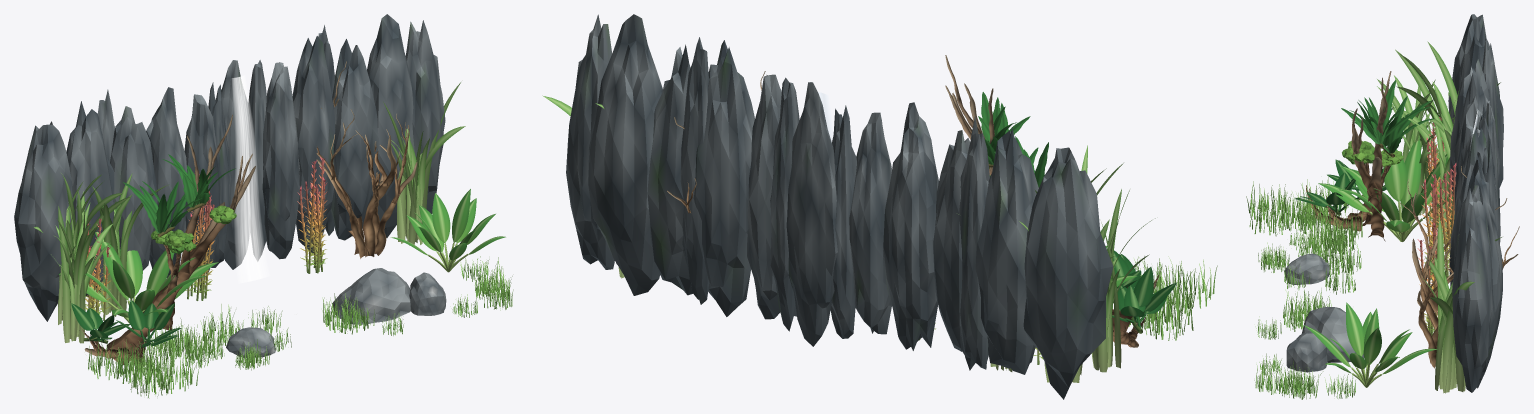
Rendered from aquascape-layout.glb.
3 views of the same model, side by side, from view 1: azimuth 30°, elevation 25°; view 2: azimuth 150°, elevation 25°; view 3: azimuth 270°, elevation 25° (orthographic). The views are drawn at different scales.
Parts seen in each view (by area): view 1: rock_cliff, plant_vallisneria, plant_hairgrass, plant_amazon_sword, waterfall, driftwood_large, rock_seiryu_a, driftwood_spider, plant_rotala, plant_java_fern, plant_anubias, rock_seiryu_b (+1 smaller); view 2: rock_cliff, plant_vallisneria, plant_hairgrass, plant_anubias, plant_java_fern, driftwood_large; view 3: rock_cliff, plant_hairgrass, plant_amazon_sword, plant_vallisneria, driftwood_large, rock_seiryu_a, plant_rotala, driftwood_spider, plant_java_fern, rock_seiryu_b, plant_anubias, moss_clump.
Boxes of the visible parts, x1,y1,x2,y2 form: rock_cliff: (14,14,445,321); plant_vallisneria: (34,82,465,343); plant_hairgrass: (88,256,513,398); plant_amazon_sword: (59,189,505,323); waterfall: (232,75,269,283); driftwood_large: (82,114,255,366); rock_seiryu_a: (226,268,410,357); driftwood_spider: (316,61,417,258); plant_rotala: (85,157,327,320); plant_java_fern: (123,154,235,237); plant_anubias: (71,300,181,350); rock_seiryu_b: (409,272,446,315); rock_cliff: (566,14,1113,399); plant_vallisneria: (542,95,1155,382); plant_hairgrass: (1112,256,1217,340); plant_anubias: (1111,250,1176,333); plant_java_fern: (978,92,1048,187); driftwood_large: (945,55,1158,347); rock_cliff: (1448,14,1503,392); plant_hairgrass: (1246,177,1362,399); plant_amazon_sword: (1303,137,1452,387); plant_vallisneria: (1377,41,1501,393); driftwood_large: (1306,71,1391,241); rock_seiryu_a: (1284,253,1364,362); plant_rotala: (1417,117,1456,335); driftwood_spider: (1399,166,1519,368); plant_java_fern: (1341,80,1434,157); rock_seiryu_b: (1286,332,1327,372); plant_anubias: (1295,159,1386,215); moss_clump: (1342,141,1403,166).
Size of the model in its own units: 13.33 by 6.41 by 6.89.
6 materials, 2 textured.
